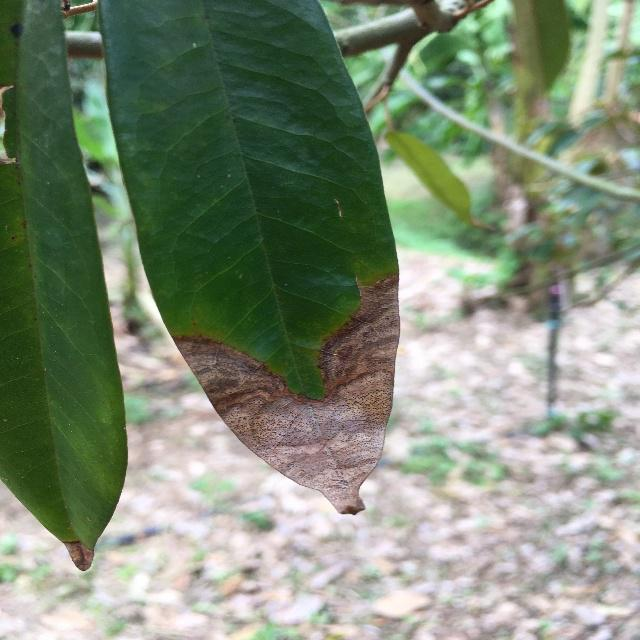Leaf Blight: (91, 0, 405, 527)
